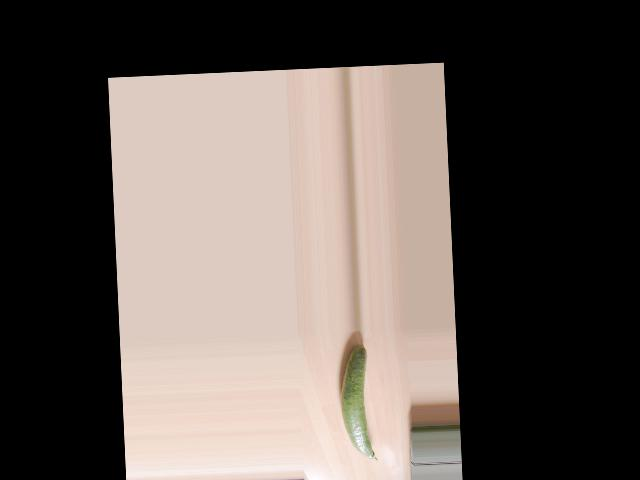cucumber: (337, 342, 377, 463)
